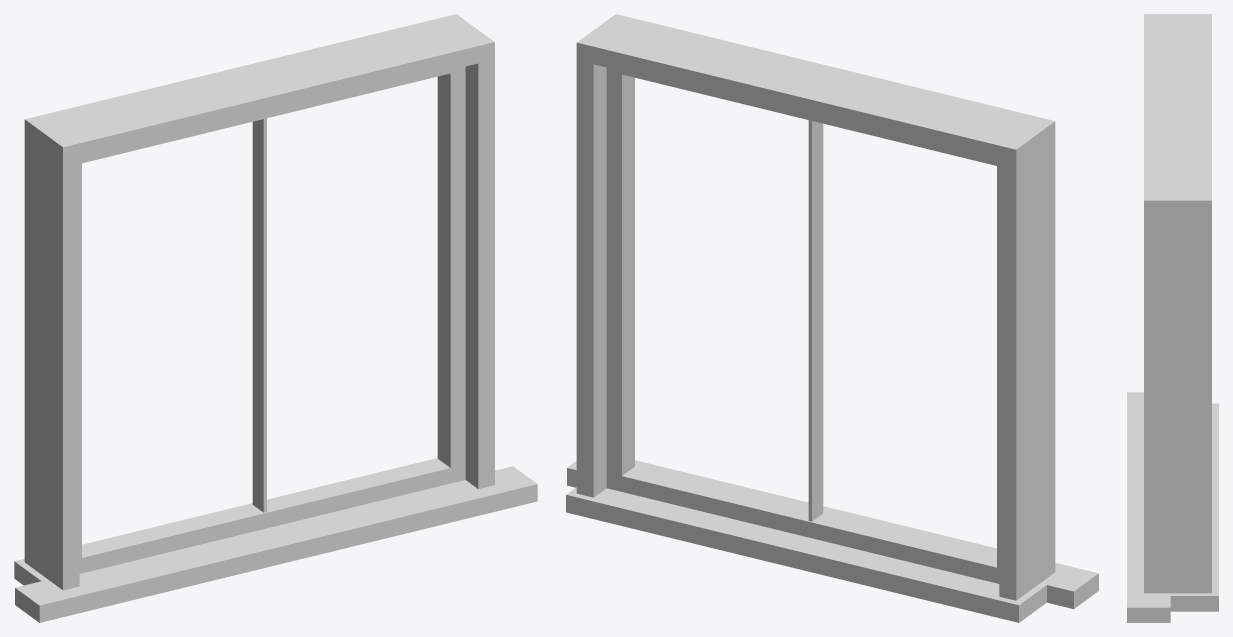
File: Window5_02.fbx
The picture shows the model from 3 angles, left to right: view 1: azimuth 30°, elevation 25°; view 2: azimuth 150°, elevation 25°; view 3: azimuth 270°, elevation 25°; orthographic projection. The views are drawn at different scales.
Parts seen in each view (by area): view 1: Window5_02; view 2: Window5_02; view 3: Window5_02.
Boxes of the visible parts, x1=… form: Window5_02: x1=14, y1=14, x2=537, y2=622; Window5_02: x1=566, y1=14, x2=1098, y2=622; Window5_02: x1=1127, y1=14, x2=1218, y2=622.
Bounding box in the file's own units: 1.5 × 1.32 × 0.27.
